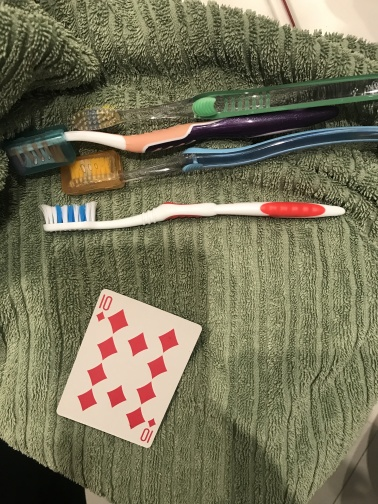ten: (54, 287, 204, 450)
